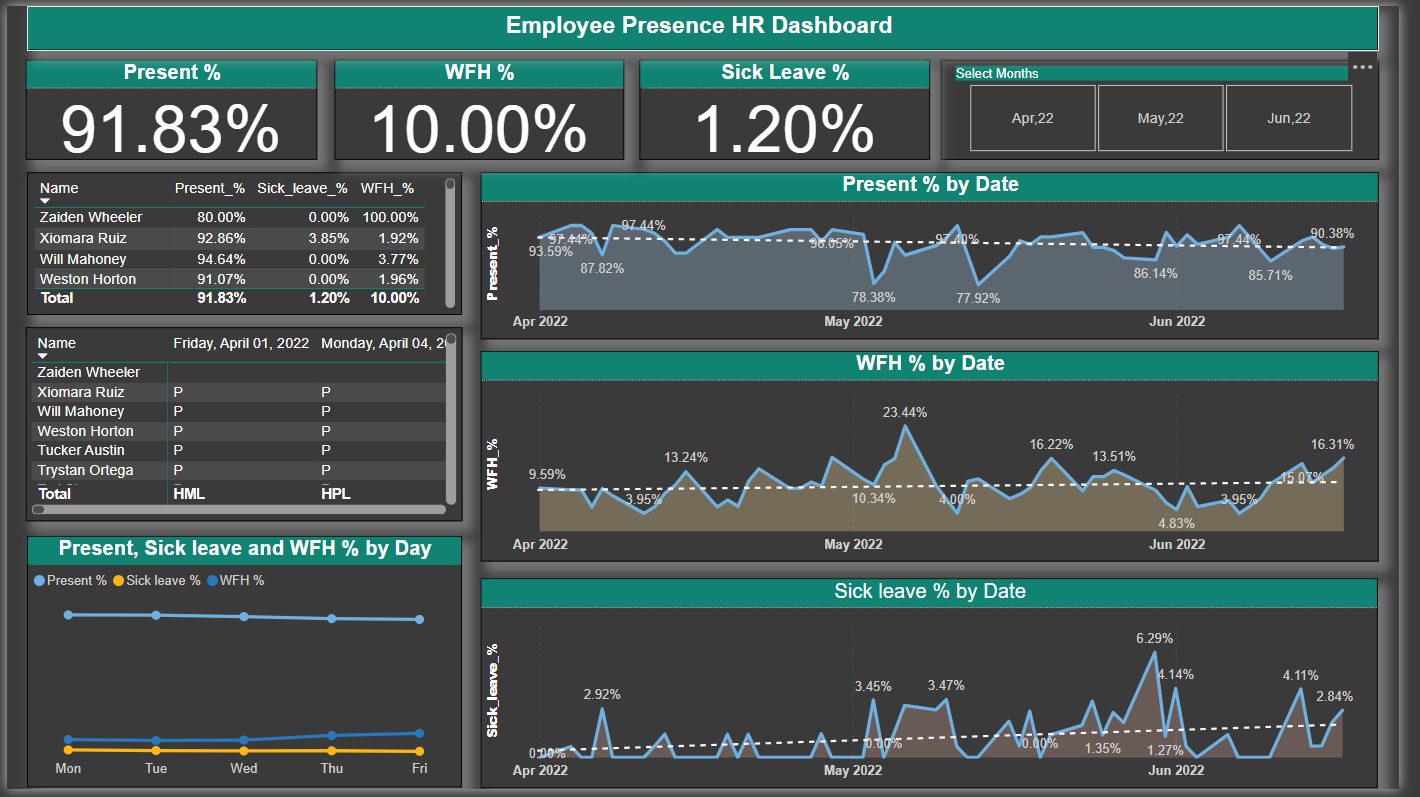

The dashboard page shown, as its layout file describes it:
{"tool":"powerbi","page":{"name":"Employee Dashbaord","canvas":[1280,720],"ordinal":0},"visuals":[{"type":"card","title":"Present %","fields":{"Values":["Final Data.Percentage_present"]},"box":[16.7,49,268.3,92.4],"z":0},{"type":"slicer","fields":{"Values":["Final Data.Month"]},"box":[858.3,49,403,92.4],"z":1000},{"type":"tableEx","fields":{"Values":["Final Data.Name","Final Data.Percentage_present","Final Data.Sick_leave_%","Final Data.WFH_%"]},"box":[18.9,152.5,399.6,131.4],"z":2000},{"type":"pivotTable","fields":{"Rows":["Final Data.Name"],"Values":["Min(Final Data.Leave)"],"Columns":["Final Data.Date"]},"box":[16.7,295,401.9,178.1],"z":3000},{"type":"areaChart","title":"Present % by Date","fields":{"Y":["Final Data.Present_%"],"Category":["Final Data.Date"]},"box":[435.3,152.5,826,153.6],"z":4000},{"type":"areaChart","title":"WFH % by Date","fields":{"Category":["Final Data.Date"],"Y":["Final Data.WFH_%"]},"box":[435.3,317.3,826,193.7],"z":5000},{"type":"areaChart","title":"Sick leave % by Date","fields":{"Category":["Final Data.Date"],"Y":["Final Data.Sick_leave_%"]},"box":[435.3,526.5,824.9,192.6],"z":6000},{"type":"card","title":"WFH %","fields":{"Values":["Final Data.WFH_%"]},"box":[301.7,49,266,92.4],"z":7000},{"type":"card","title":"Sick Leave %","fields":{"Values":["Final Data.Sick_leave_%"]},"box":[581.1,49,267.2,92.4],"z":8000},{"type":"textbox","box":[18.9,0,1242.3,41.2],"z":9000},{"type":"lineChart","title":"Present, Sick leave and WFH % by Day ","fields":{"Category":["Final Data.Day of Week"],"Y":["Final Data.Present_%","Final Data.Sick_leave_%","Final Data.WFH_%"]},"box":[18.9,487.6,399.6,231.5],"z":10000}]}

Visuals, with their boxes in screenshot pixels (x1, y1, x2, y2), scaled from the page's 1280x720 canvas onto the 1420x797 screenshot:
"Present %" card: <box>19,54,316,157</box>
slicer - Final Data.Month: <box>952,54,1399,157</box>
tableEx - Final Data.Name x Final Data.Percentage_present: <box>21,169,464,314</box>
pivotTable - Final Data.Name x Min(Final Data.Leave): <box>19,327,464,524</box>
"Present % by Date" areaChart: <box>483,169,1399,339</box>
"WFH % by Date" areaChart: <box>483,351,1399,566</box>
"Sick leave % by Date" areaChart: <box>483,583,1398,796</box>
"WFH %" card: <box>335,54,630,157</box>
"Sick Leave %" card: <box>645,54,941,157</box>
textbox: <box>21,0,1399,46</box>
"Present, Sick leave and WFH % by Day " lineChart: <box>21,540,464,796</box>
